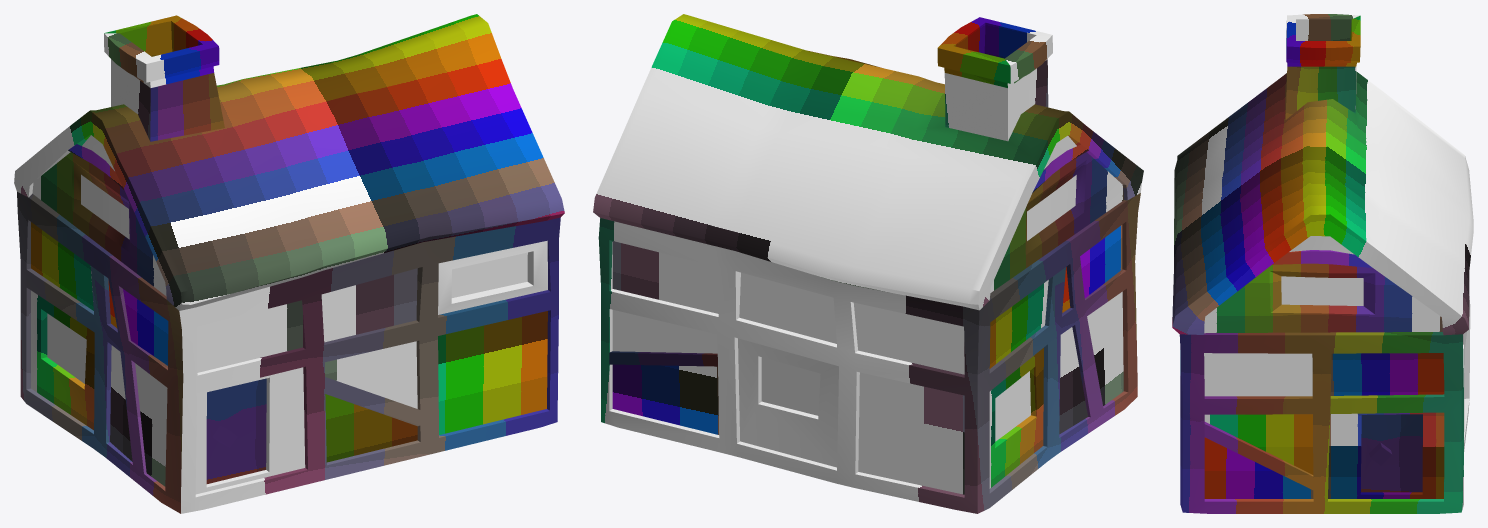
File: ColonistHouse1.fbx
3 renders of one model, left to right at view 1: azimuth 30°, elevation 25°; view 2: azimuth 150°, elevation 25°; view 3: azimuth 270°, elevation 25°, orthographic. The views are drawn at different scales.
Parts seen in each view (by area): view 1: ColonistHouse1; view 2: ColonistHouse1; view 3: ColonistHouse1.
Boxes of the visible parts, x1,y1,x2,y2 form: ColonistHouse1: [14, 14, 564, 513]; ColonistHouse1: [593, 14, 1143, 513]; ColonistHouse1: [1172, 14, 1473, 513].
Bounding box in the file's own units: 207 × 205 × 160.
